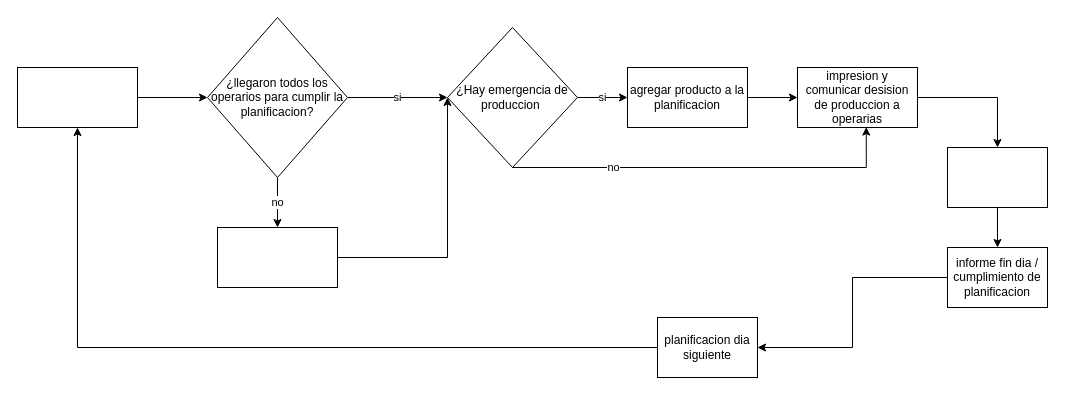
Image size: 1065x395. Some labels were removed from this diagram. Each missing label, with the centre of its shape:
"planificacion dia anterior" goes at point 77,97.
"Re-planificar el dia" goes at point 277,257.
"tareas terminadas" goes at point 997,177.
